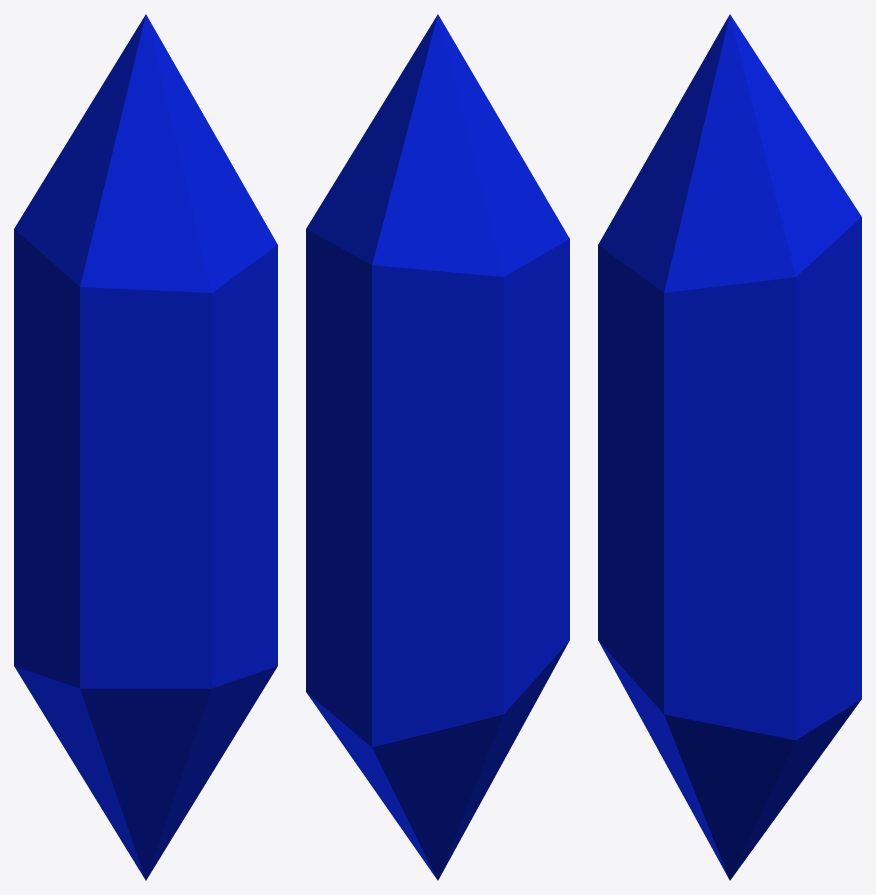
Rendered from Item B.fbx.
3 views of the same model, side by side, from view 1: azimuth 30°, elevation 25°; view 2: azimuth 150°, elevation 25°; view 3: azimuth 270°, elevation 25° (orthographic).
Parts seen in each view (by area): view 1: Cylinder; view 2: Cylinder; view 3: Cylinder.
Part boxes in pixels (box(x1,y1,x2,y2)): Cylinder: box(14, 14, 277, 880); Cylinder: box(306, 14, 569, 880); Cylinder: box(598, 14, 861, 880).
Bounding box in the file's own units: 53.79 × 225 × 62.11.
